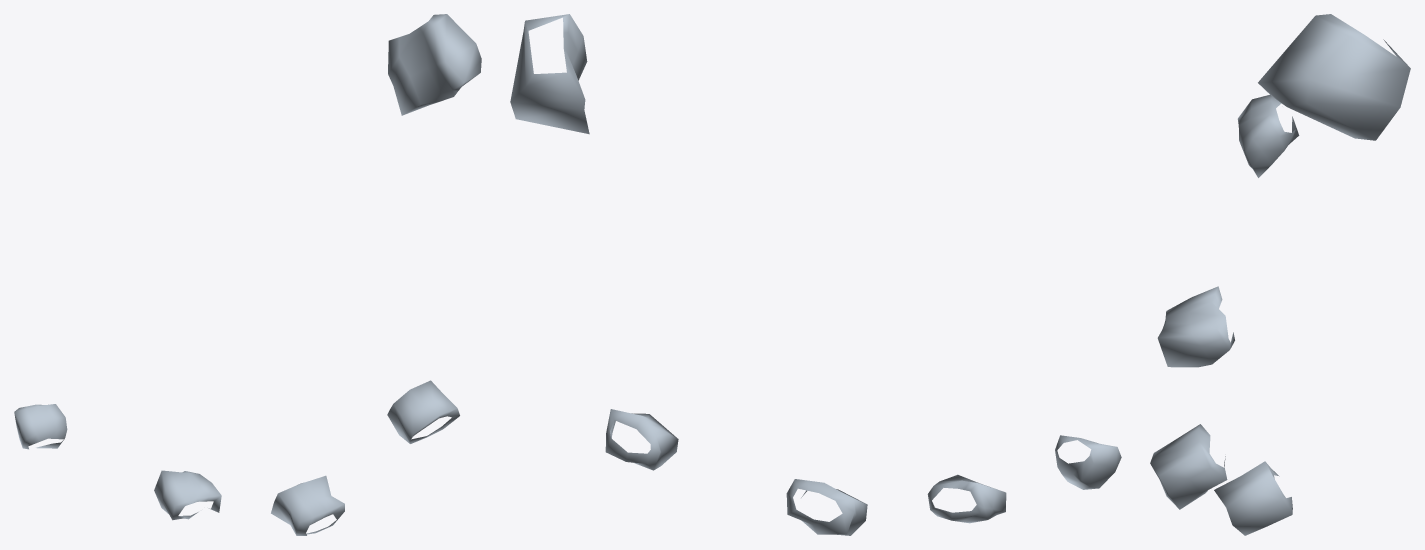
Rendered from articular-capsules-of-distal-interphalangeal-joints-l.glb.
3 renders of one model, left to right at view 1: azimuth 30°, elevation 25°; view 2: azimuth 150°, elevation 25°; view 3: azimuth 270°, elevation 25°, orthographic. The views are drawn at different scales.
Parts seen in each view (by area): view 1: Articular capsules of distal interphalangeal joints.l; view 2: Articular capsules of distal interphalangeal joints.l; view 3: Articular capsules of distal interphalangeal joints.l.
Boxes of the visible parts, x1,y1,x2,y2 form: Articular capsules of distal interphalangeal joints.l: (14,14,481,535); Articular capsules of distal interphalangeal joints.l: (510,14,1121,535); Articular capsules of distal interphalangeal joints.l: (1150,14,1410,535).
Size of the model in its own units: 0.1084 by 0.093 by 0.0364.
